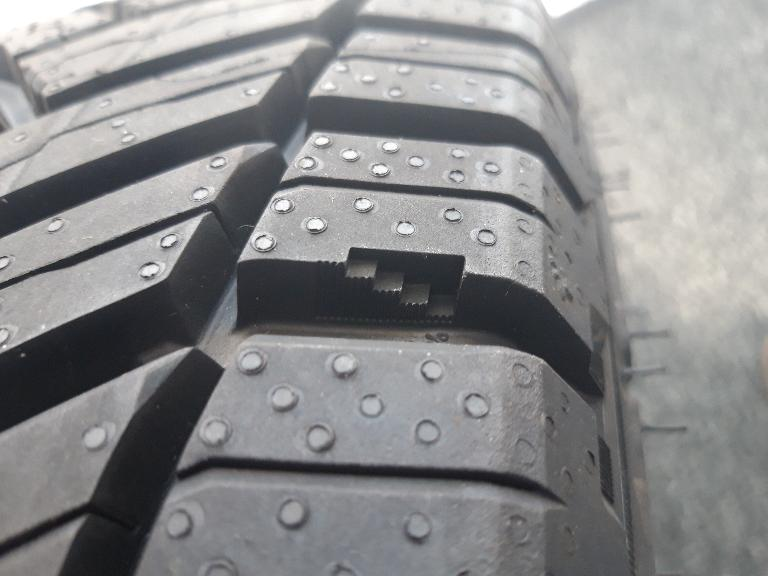temoin:100: (316, 246, 469, 326)
